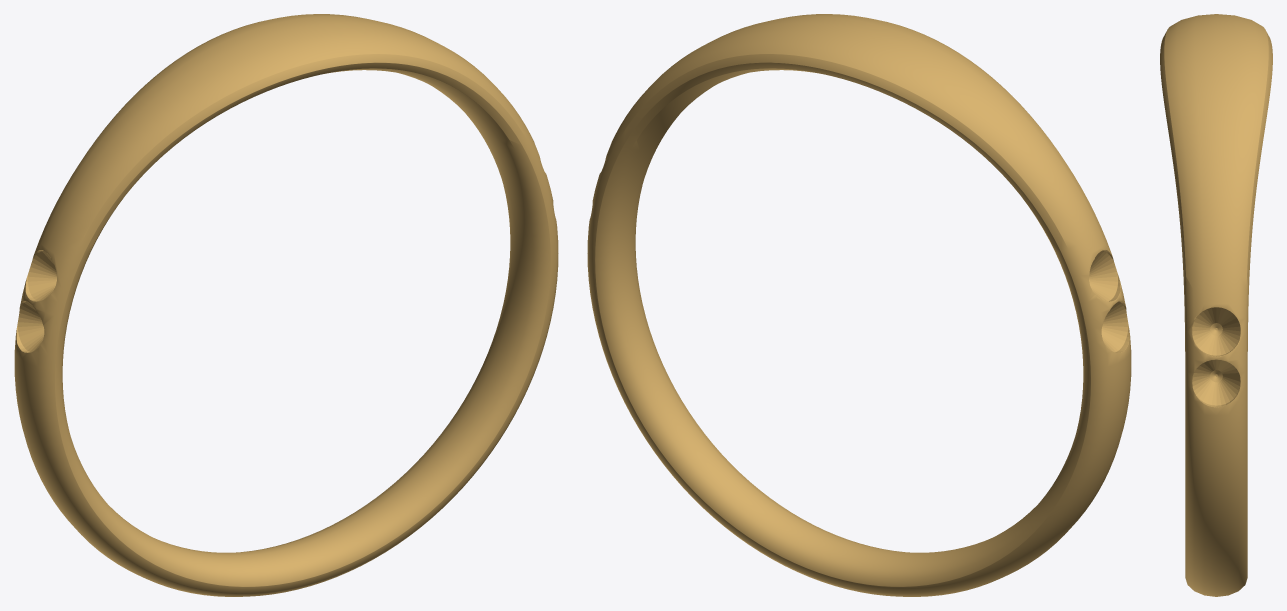
File: reverse-tapered-flush-accents-multi.glb
3 renders of one model, left to right at view 1: azimuth 30°, elevation 25°; view 2: azimuth 150°, elevation 25°; view 3: azimuth 270°, elevation 25°, orthographic. The views are drawn at different scales.
Parts seen in each view (by area): view 1: Band; view 2: Band; view 3: Band.
Boxes of the visible parts, box(x1,y1,x2,y2) form: Band: box(14, 14, 558, 596); Band: box(587, 14, 1131, 596); Band: box(1160, 14, 1272, 596).
Bounding box in the file's own units: 19.6 × 19.6 × 3.8.
